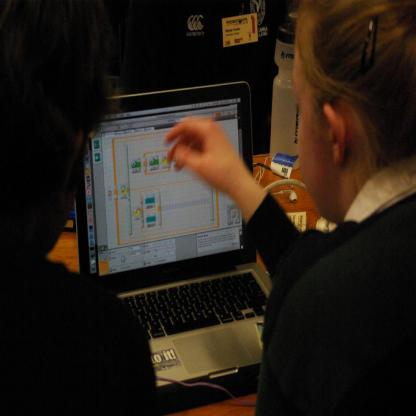board: (82, 79, 272, 407)
